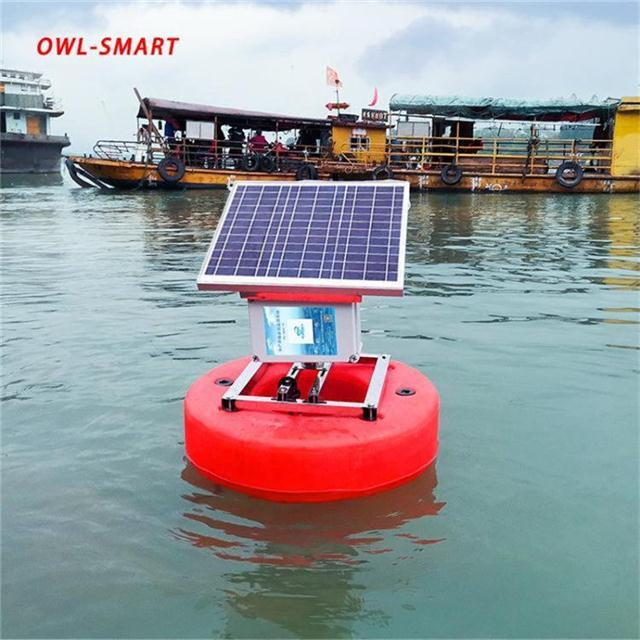buoy: (183, 175, 442, 497)
